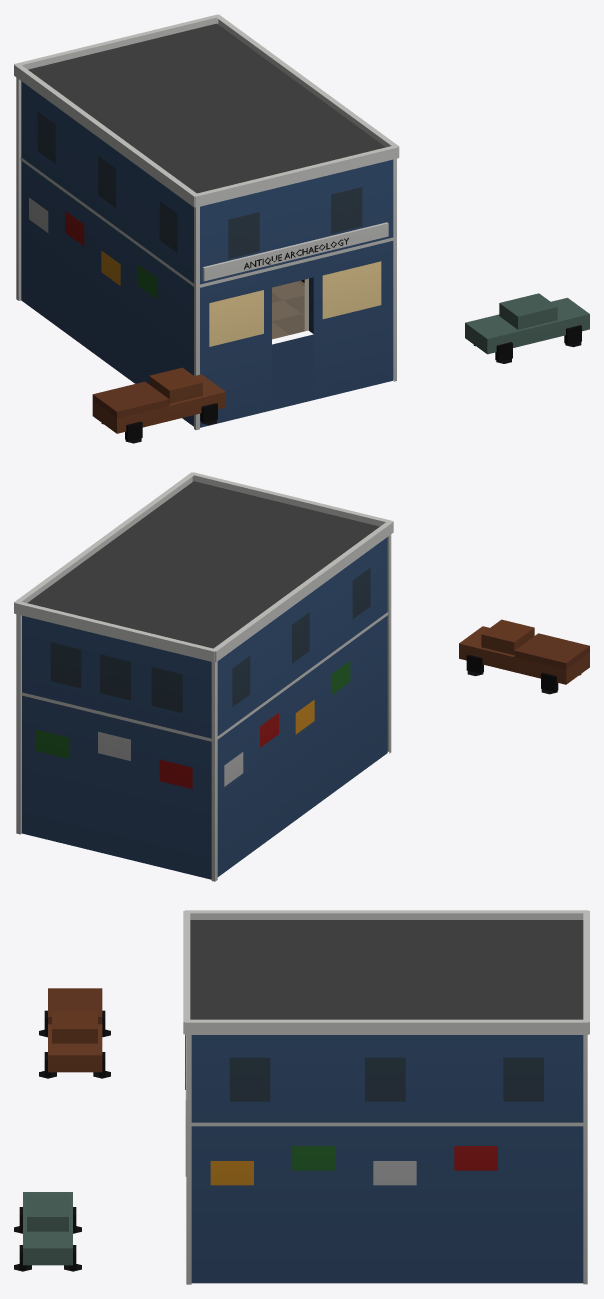
Rendered from antique.glb.
The picture shows the model from 3 angles, top to bottom: view 1: azimuth 30°, elevation 25°; view 2: azimuth 150°, elevation 25°; view 3: azimuth 270°, elevation 25°; orthographic projection. The views are drawn at different scales.
Visible parts, largest first — view 1: antique_lod0, antique_int; view 2: antique_lod0; view 3: antique_lod0.
Part boxes in pixels (box(x1,y1,x2,y2)): antique_lod0: box(14, 14, 589, 443); antique_int: box(272, 278, 308, 339); antique_lod0: box(14, 472, 589, 881); antique_lod0: box(14, 910, 589, 1284).
Size of what is drawn, in the model's own units: 22.05 by 10.7 by 21.25.
